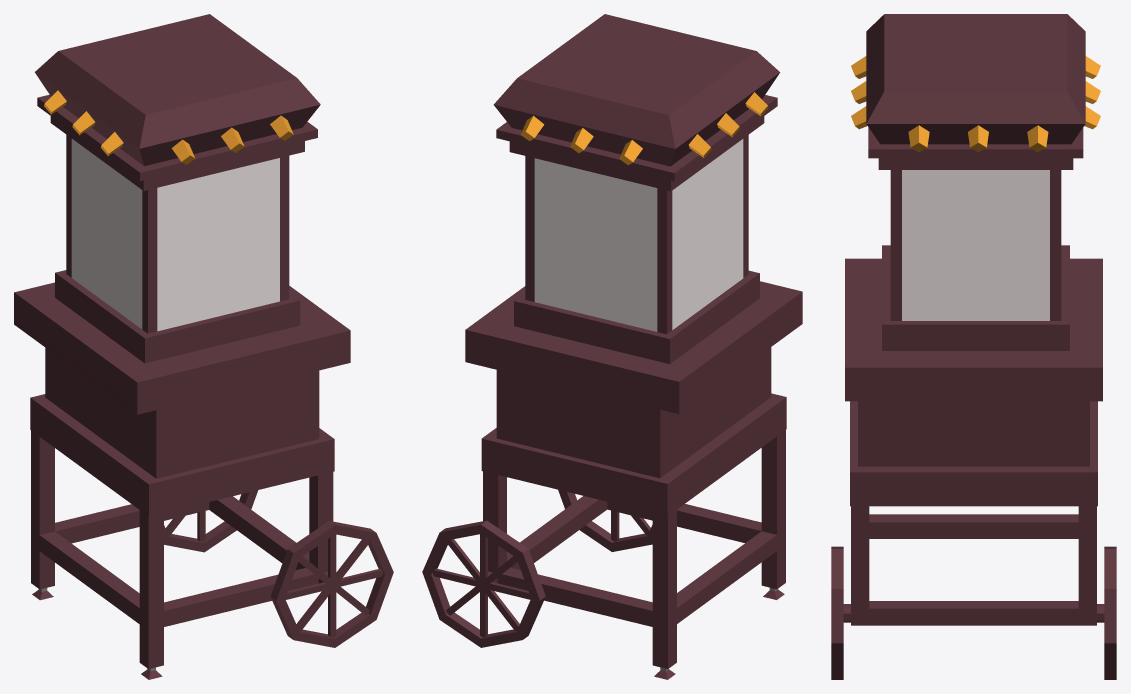
The model's file is stand-popcorn-small.fbx.
3 views of the same model, side by side, from view 1: azimuth 30°, elevation 25°; view 2: azimuth 150°, elevation 25°; view 3: azimuth 270°, elevation 25° (orthographic). The views are drawn at different scales.
Visible parts, largest first — view 1: stand-popcorn-small; view 2: stand-popcorn-small; view 3: stand-popcorn-small.
Part boxes in pixels (x1,y1,x2,y2): stand-popcorn-small: (14, 14, 393, 679); stand-popcorn-small: (422, 14, 802, 679); stand-popcorn-small: (831, 14, 1116, 679).
Size of the model in its own units: 0.9038 by 1.91 by 0.8528.
